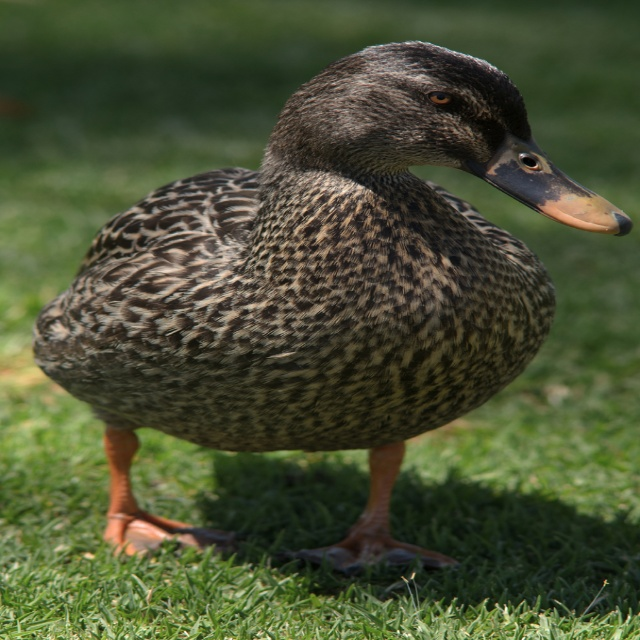Duck: (31, 40, 631, 574)
